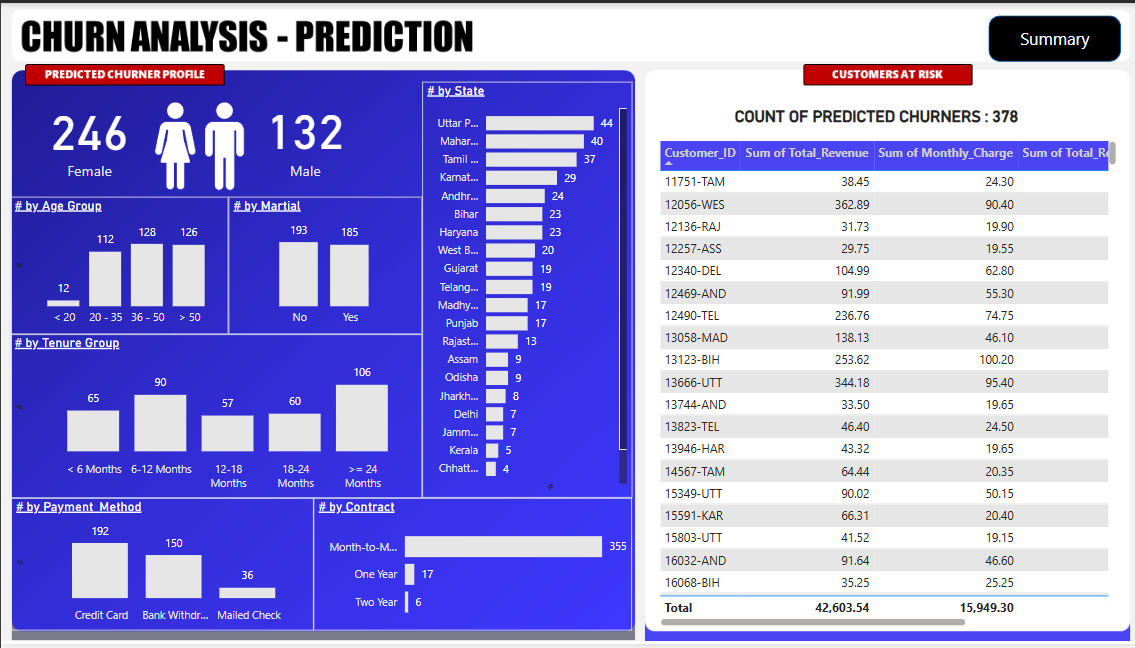

This screenshot's page, from the dashboard's own definition file:
{"tool":"powerbi","page":{"name":"Churn Prediction","canvas":[1280,720],"ordinal":2},"visuals":[{"type":"tableEx","fields":{"Values":["Predictions.Customer_ID","Sum(Predictions.Total_Revenue)","Sum(Predictions.Monthly_Charge)","Sum(Predictions.Total_Refunds)","Sum(Predictions.Number_of_Referrals)"]},"box":[734.2,150.2,523.6,554.5],"z":0},{"type":"card","fields":{"Values":["tbl_measures.Title Predicted Churners"]},"box":[708.9,105.3,548.9,44.9],"z":1000},{"type":"card","fields":{"Values":["tbl_measures.Count Predicted Churner"]},"box":[18.2,88.4,162.8,123.5],"z":1001},{"type":"card","fields":{"Values":["tbl_measures.Count Predicted Churner"]},"box":[255.5,92.7,172.7,113.7],"z":1002},{"type":"clusteredColumnChart","fields":{"Category":["mapping_AgeGrp.Age Group "],"Y":["CountNonNull(Predictions.Customer_ID)"]},"box":[9.8,217.6,245.7,154.4],"z":1003},{"type":"clusteredColumnChart","fields":{"Category":["mapping_TenureGrp.Tenure Group "],"Y":["CountNonNull(Predictions.Customer_ID)"]},"box":[9.8,372,463.3,183.9],"z":1004},{"type":"clusteredColumnChart","fields":{"Category":["Predictions.Married"],"Y":["CountNonNull(Predictions.Customer_ID)"]},"box":[255.5,217.6,217.6,154.4],"z":1005},{"type":"clusteredColumnChart","fields":{"Category":["Predictions.Payment_Method"],"Y":["CountNonNull(Predictions.Customer_ID)"]},"box":[11.2,555.9,339.7,148.8],"z":1006},{"type":"clusteredBarChart","fields":{"Category":["Predictions.Contract"],"Y":["CountNonNull(Predictions.Customer_ID)"]},"box":[351,555.9,358,148.8],"z":1007},{"type":"clusteredBarChart","fields":{"Category":["Predictions.State"],"Y":["CountNonNull(Predictions.Customer_ID)"]},"box":[473.1,88.4,235.8,467.5],"z":1008},{"type":"image","box":[151.6,92.7,141.8,134.8],"z":1009},{"type":"shape","box":[1109,14,148.8,51.9],"z":1010}]}

Visuals, with their boxes in screenshot pixels (x1, y1, x2, y2), scaled from the page's 1280x720 canvas onto the 1135x648 screenshot:
tableEx - Predictions.Customer_ID x Sum(Predictions.Total_Revenue): BBox(651, 135, 1115, 634)
card - tbl_measures.Title Predicted Churners: BBox(629, 95, 1115, 135)
card - tbl_measures.Count Predicted Churner: BBox(16, 80, 160, 191)
card - tbl_measures.Count Predicted Churner: BBox(227, 83, 380, 186)
clusteredColumnChart - mapping_AgeGrp.Age Group  x CountNonNull(Predictions.Customer_ID): BBox(9, 196, 227, 335)
clusteredColumnChart - mapping_TenureGrp.Tenure Group  x CountNonNull(Predictions.Customer_ID): BBox(9, 335, 420, 500)
clusteredColumnChart - Predictions.Married x CountNonNull(Predictions.Customer_ID): BBox(227, 196, 420, 335)
clusteredColumnChart - Predictions.Payment_Method x CountNonNull(Predictions.Customer_ID): BBox(10, 500, 311, 634)
clusteredBarChart - Predictions.Contract x CountNonNull(Predictions.Customer_ID): BBox(311, 500, 629, 634)
clusteredBarChart - Predictions.State x CountNonNull(Predictions.Customer_ID): BBox(420, 80, 629, 500)
image: BBox(134, 83, 260, 205)
shape: BBox(983, 13, 1115, 59)
